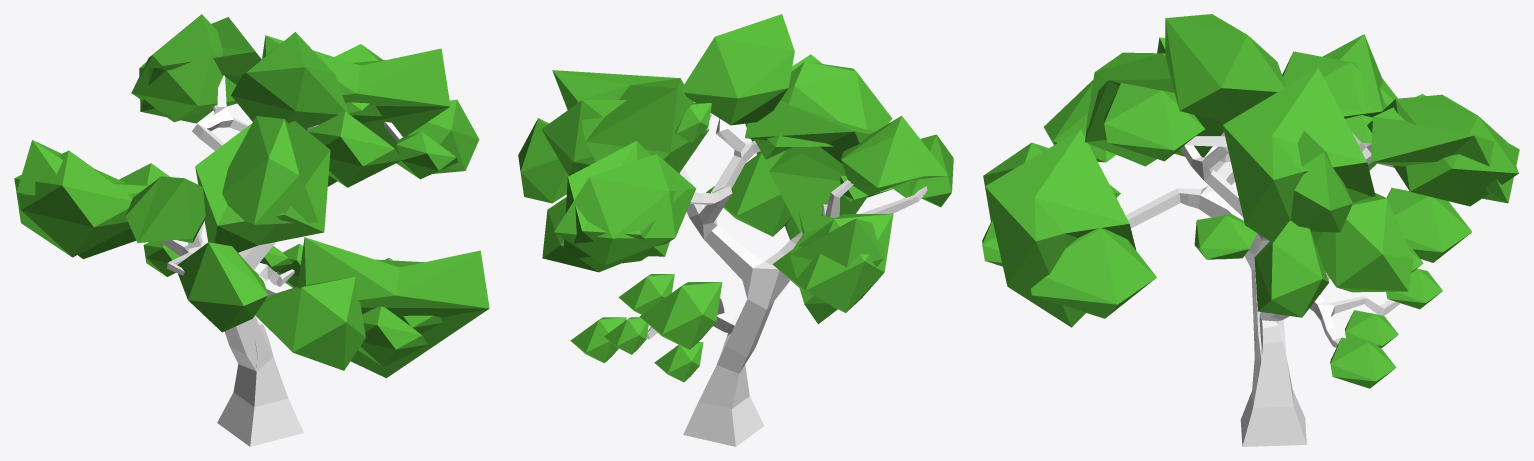
The model's file is tree.glb.
3 views of the same model, side by side, from view 1: azimuth 30°, elevation 25°; view 2: azimuth 150°, elevation 25°; view 3: azimuth 270°, elevation 25° (orthographic). The views are drawn at different scales.
Visible parts, largest first — view 1: treeleaves, treetrunk; view 2: treeleaves, treetrunk; view 3: treeleaves, treetrunk.
Boxes of the visible parts, <box> form: treeleaves: <box>14,14,489,378</box>; treetrunk: <box>160,75,402,446</box>; treeleaves: <box>518,14,953,382</box>; treetrunk: <box>646,113,927,446</box>; treeleaves: <box>982,14,1519,388</box>; treetrunk: <box>1125,132,1400,446</box>.
Bounding box in the file's own units: 8.76 × 7.94 × 9.42.
